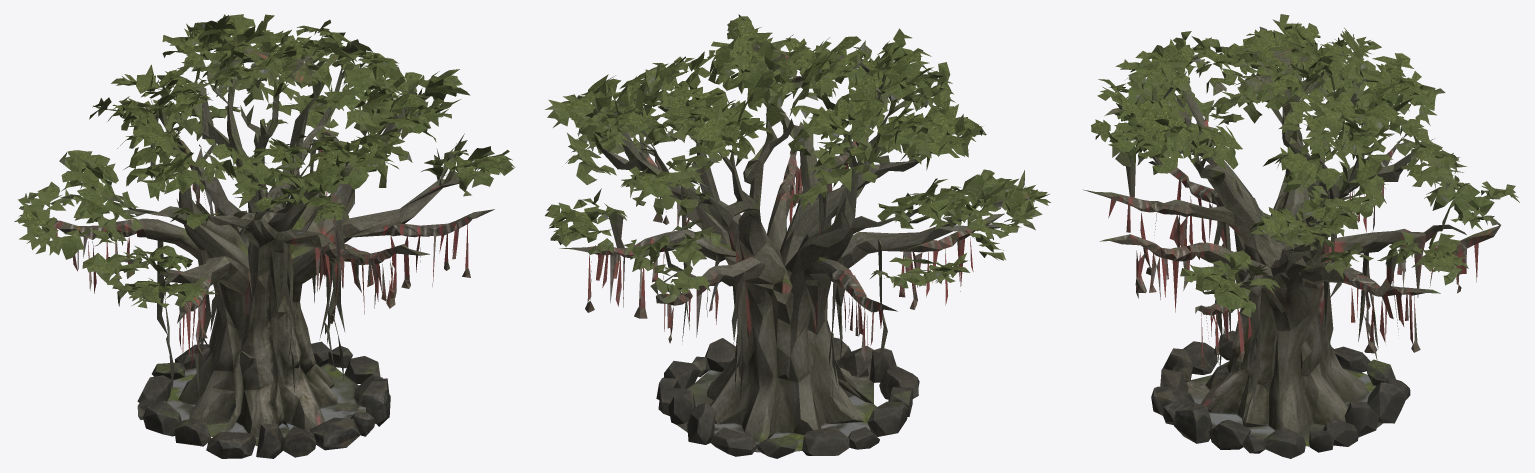
The model's file is oath_tree.glb.
3 views of the same model, side by side, from view 1: azimuth 30°, elevation 25°; view 2: azimuth 150°, elevation 25°; view 3: azimuth 270°, elevation 25° (orthographic).
Parts seen in each view (by area): view 1: oath_tree; view 2: oath_tree; view 3: oath_tree.
Boxes of the visible parts, x1,y1,x2,y2 form: oath_tree: (14, 14, 515, 458); oath_tree: (545, 14, 1050, 458); oath_tree: (1083, 14, 1519, 458).
Size of the model in its own units: 20.67 by 16 by 17.28.
1 material, 1 textured.
